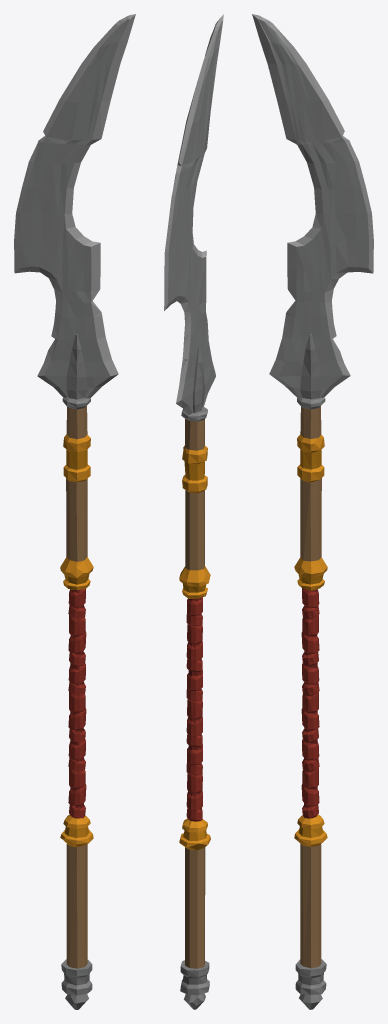
File: SFFA_Weapon_Spear_Iron_002.fbx
3 views of the same model, side by side, from view 1: azimuth 90°, elevation 25°; view 2: azimuth 150°, elevation 25°; view 3: azimuth 270°, elevation 25° (orthographic). The views are drawn at different scales.
Visible parts, largest first — view 1: SFFA_Weapon_Spear_Iron_002; view 2: SFFA_Weapon_Spear_Iron_002; view 3: SFFA_Weapon_Spear_Iron_002.
Boxes of the visible parts, box(x1,y1,x2,y2) form: SFFA_Weapon_Spear_Iron_002: box(14, 14, 135, 1009); SFFA_Weapon_Spear_Iron_002: box(164, 14, 223, 1009); SFFA_Weapon_Spear_Iron_002: box(252, 14, 373, 1009).
Bounding box in the file's own units: 6.25 × 209 × 23.18.
